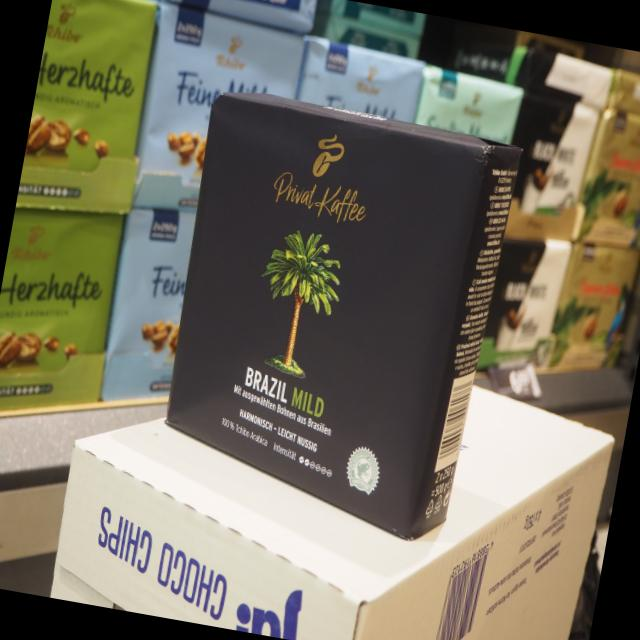BM Gemahlen: (161, 76, 524, 561)
